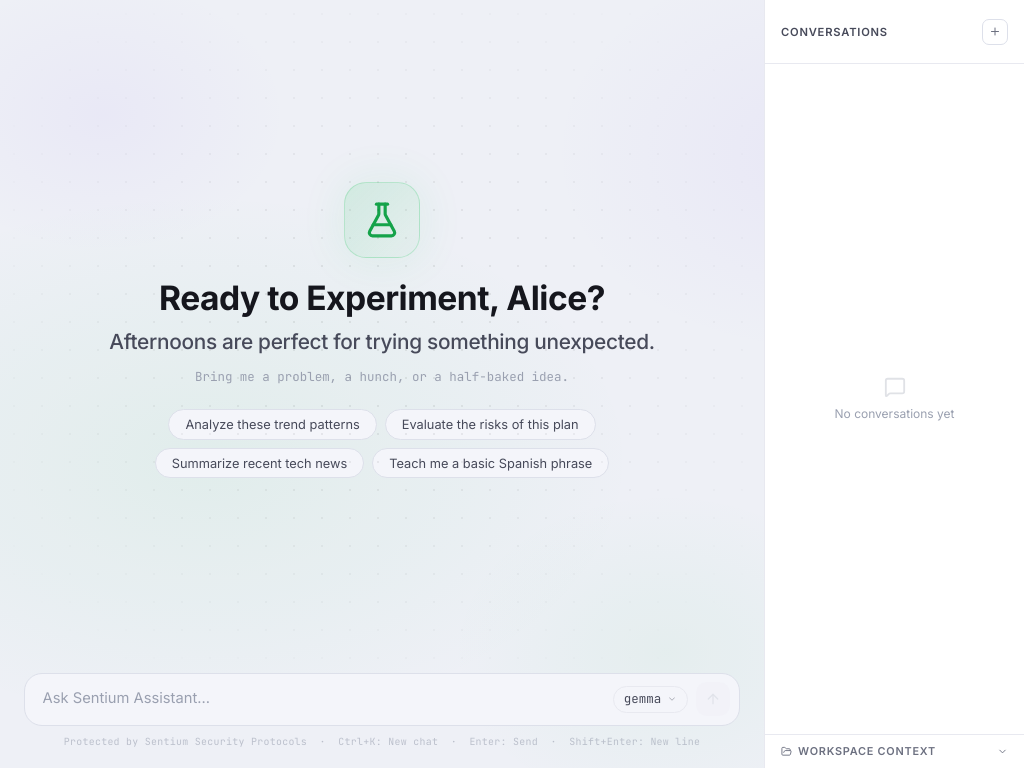
Test: Assistant page › keeps the input and shows an error when conversation creation fails
Type "hello" into the text box with placeholder "Ask Sentium Assistant..." at (324, 699), box top-left (43, 687), bottom-right (605, 711)
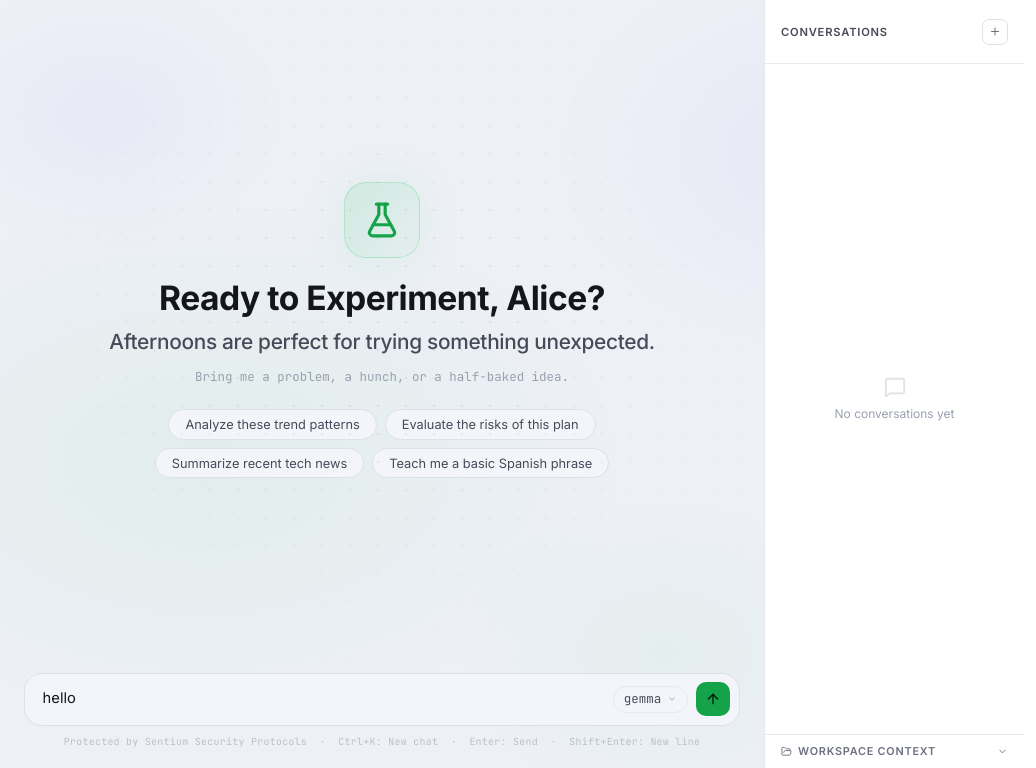
Submit the form with placeholder "Ask Sentium Assistant...", box top-left (24, 673), bottom-right (740, 726)
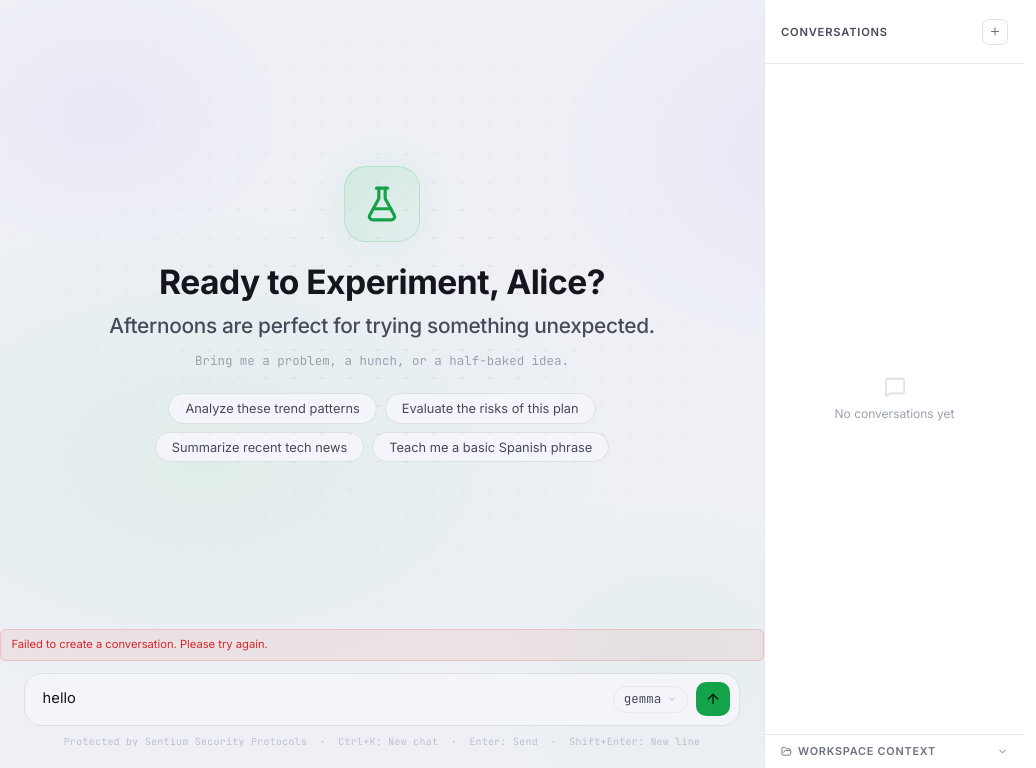
expect the text "Failed to create a conversation. Please try again." is shown: met, box top-left (11, 637), bottom-right (268, 652)
